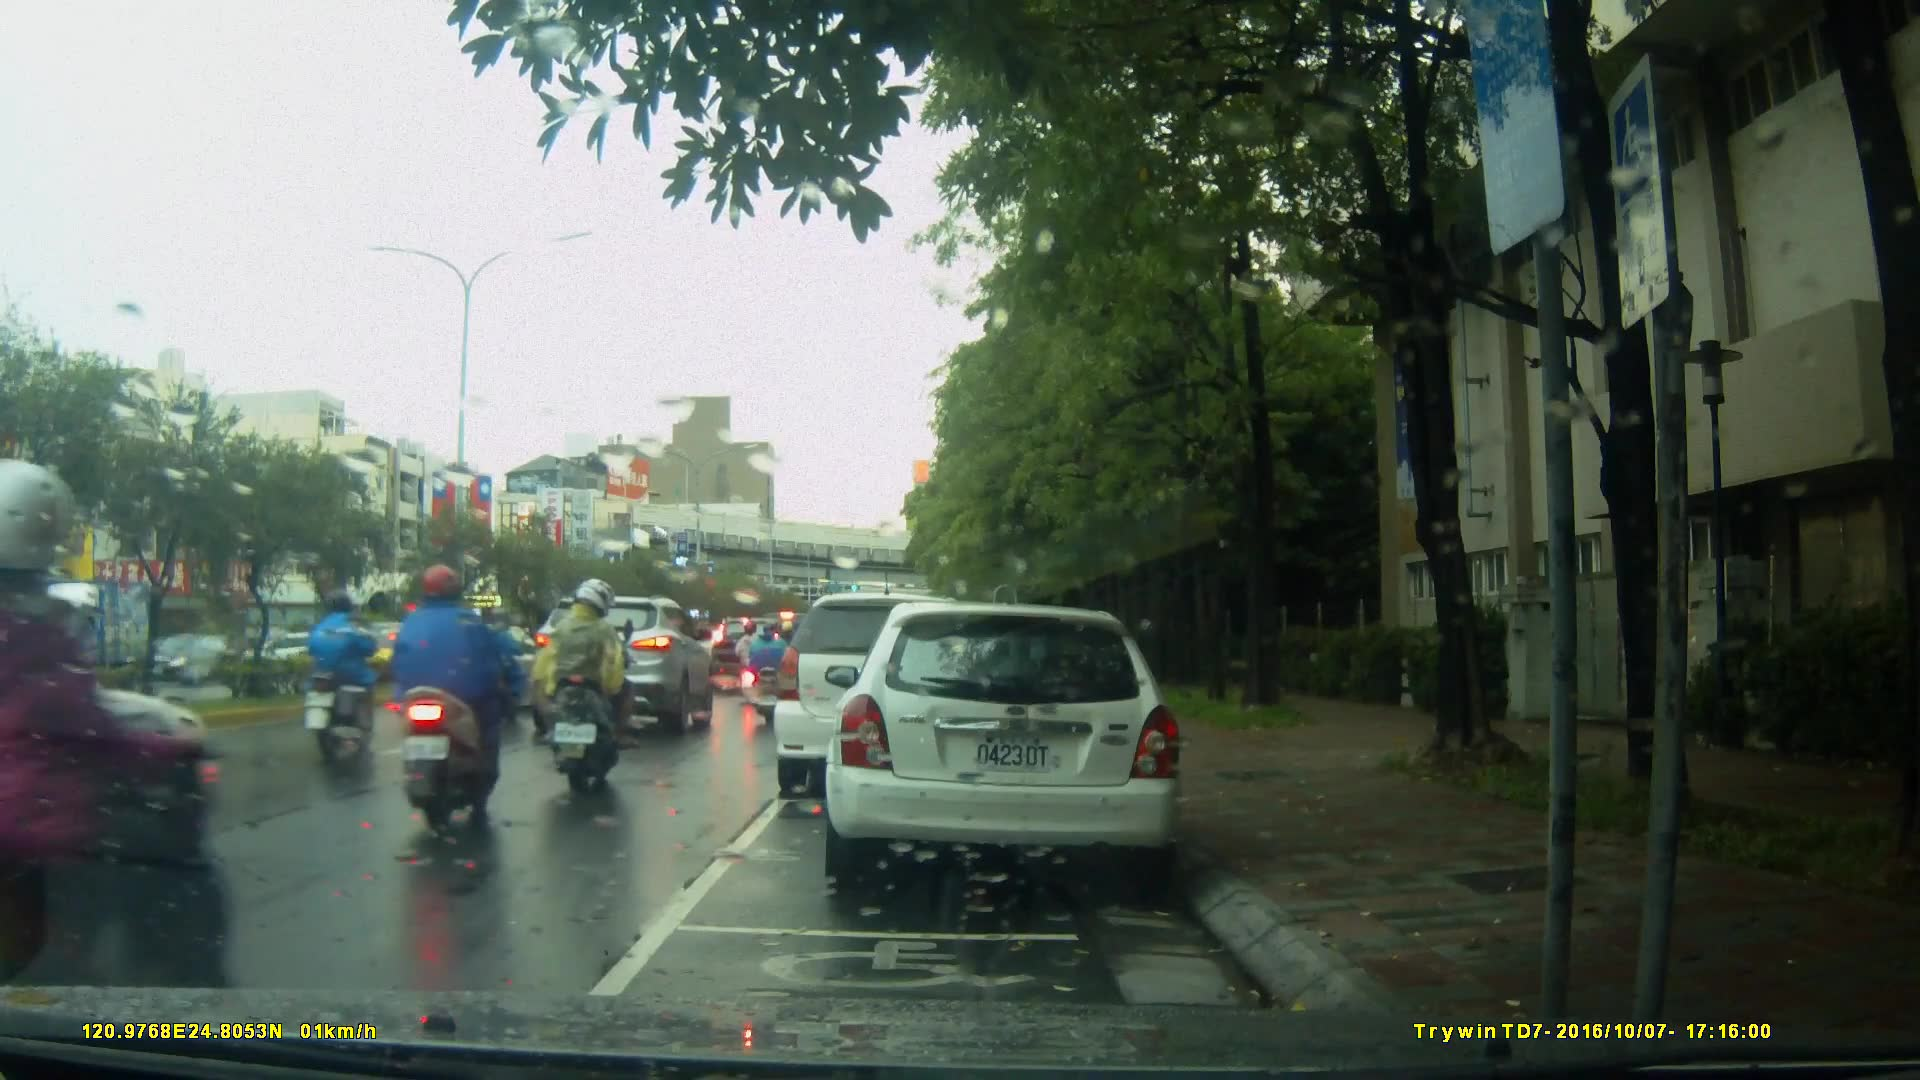rider: (1, 455, 226, 1080), (391, 561, 508, 833), (532, 580, 634, 801), (298, 588, 380, 765), (461, 607, 541, 712), (743, 617, 795, 721), (736, 618, 773, 708)
vehicle: (822, 604, 1188, 883), (774, 595, 995, 802), (528, 596, 714, 741), (144, 630, 241, 686)
